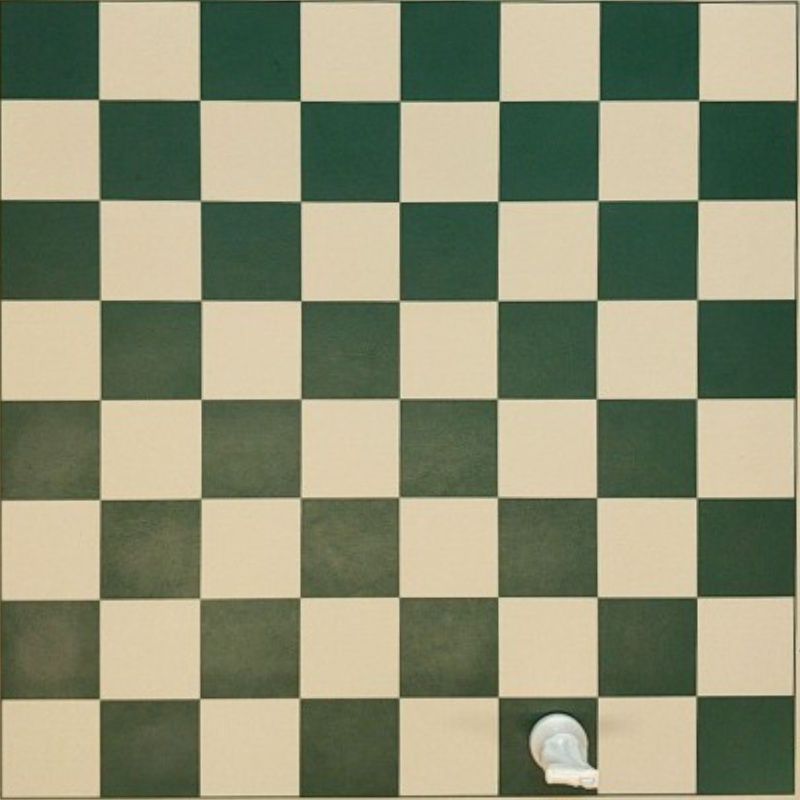white-knight: (528, 712, 595, 787)
